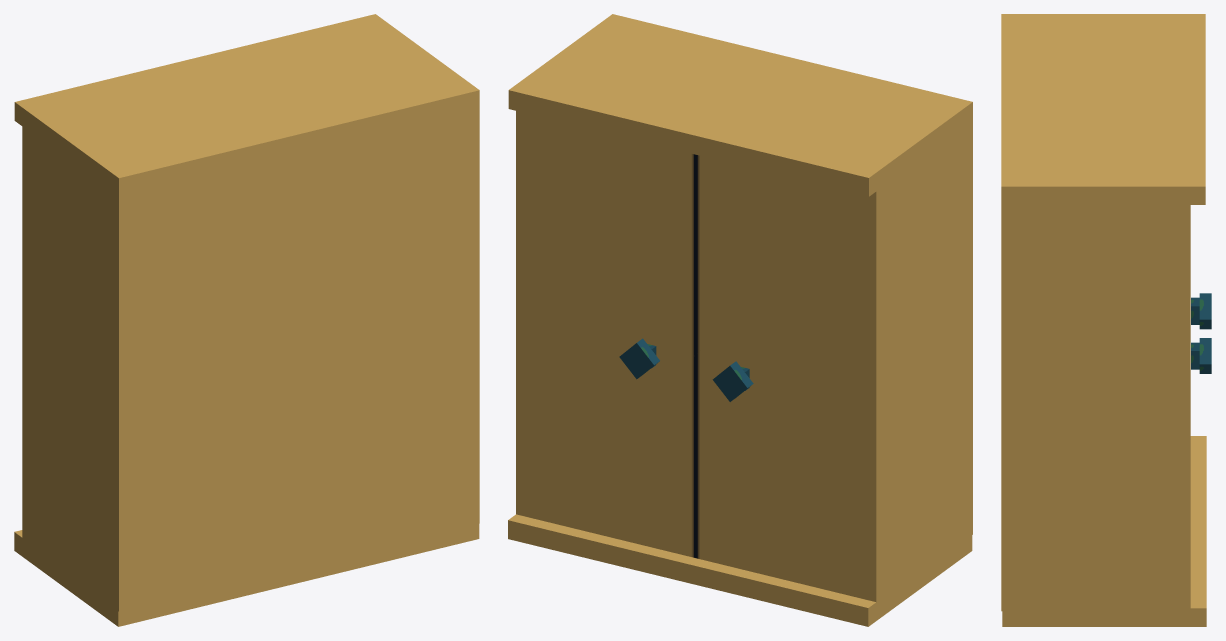
File: Armoire.FBX
3 views of the same model, side by side, from view 1: azimuth 30°, elevation 25°; view 2: azimuth 150°, elevation 25°; view 3: azimuth 270°, elevation 25° (orthographic).
Visible parts, largest first — view 1: Armoire; view 2: Armoire; view 3: Armoire.
Part boxes in pixels (x1,y1,x2,y2): Armoire: [14, 14, 479, 626]; Armoire: [508, 14, 972, 626]; Armoire: [1001, 14, 1211, 626].
Bounding box in the file's own units: 2 × 2.38 × 1.03.
